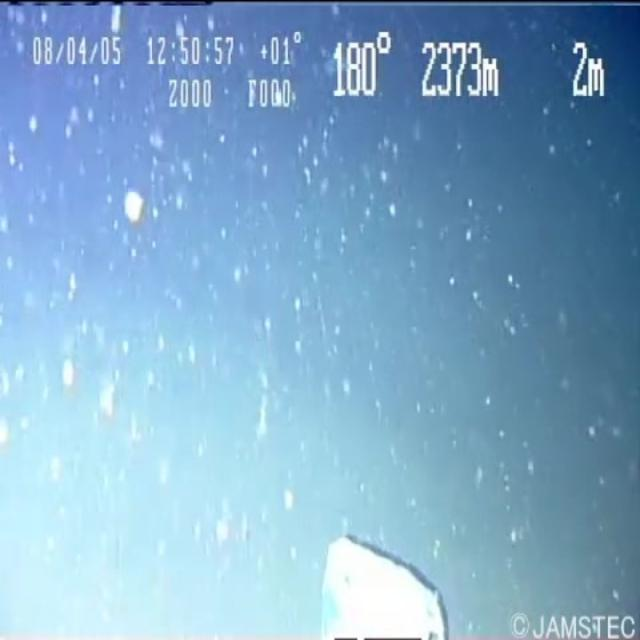Plastic: (306, 515, 448, 640)
